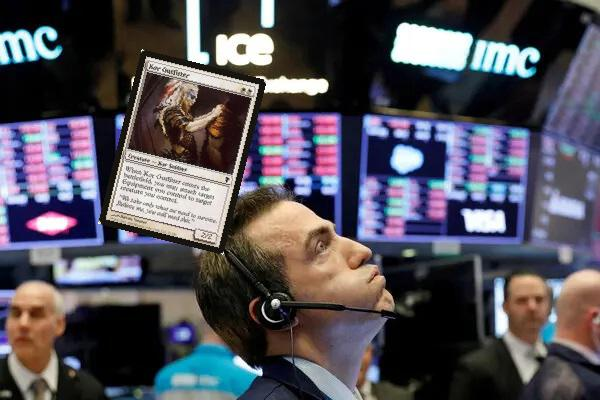mtgCard: (98, 49, 267, 255)
